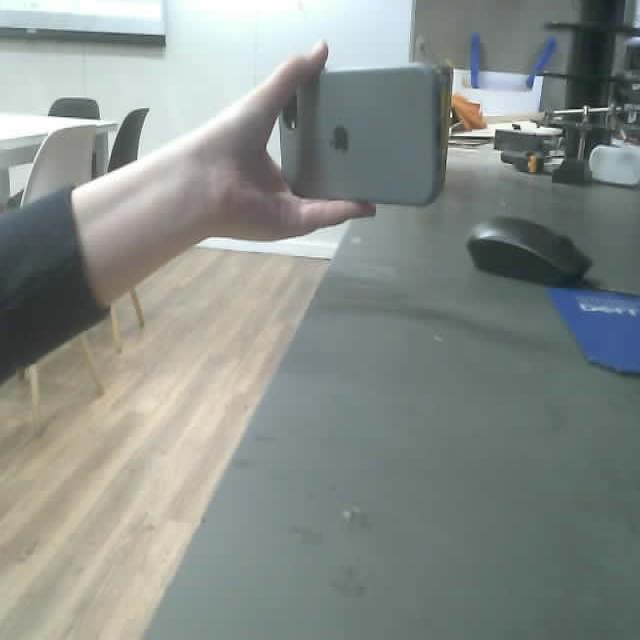phone: (281, 64, 444, 207)
